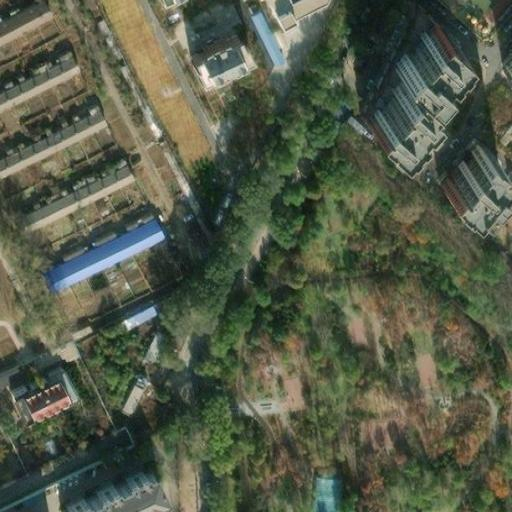building: (32, 206, 158, 291), (0, 405, 123, 487), (6, 154, 127, 230), (0, 100, 98, 169), (381, 18, 451, 94), (53, 460, 155, 512), (6, 368, 71, 423), (433, 138, 491, 199), (356, 79, 412, 138), (184, 28, 244, 74), (249, 5, 287, 66), (122, 299, 164, 332), (119, 376, 151, 416), (313, 472, 343, 512), (142, 328, 173, 365), (492, 106, 512, 139)
